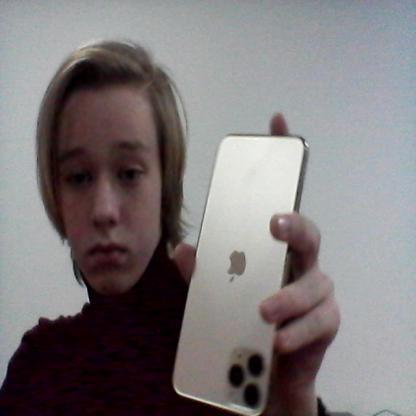phone: (169, 132, 314, 412)
